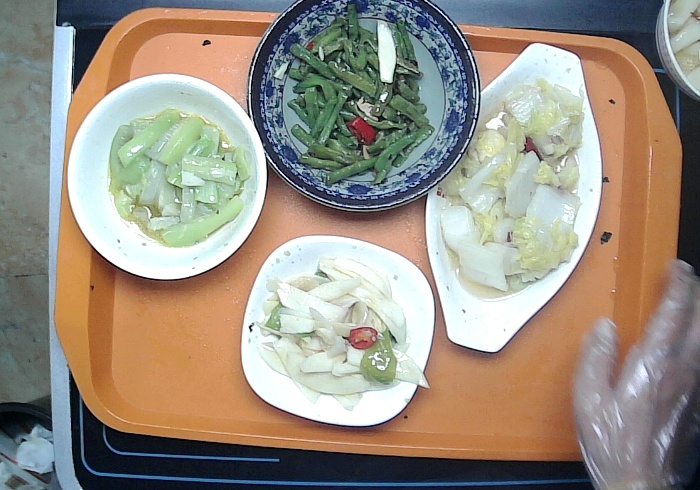ZNLD-Qing_Hua_Wan: (245, 1, 481, 213)
ZNLD-Si_Fang_Wan: (239, 232, 436, 429)
ZNLD-Tang_Wan: (64, 71, 268, 282)
ZNLD-Yu_Pan: (423, 41, 605, 354)
